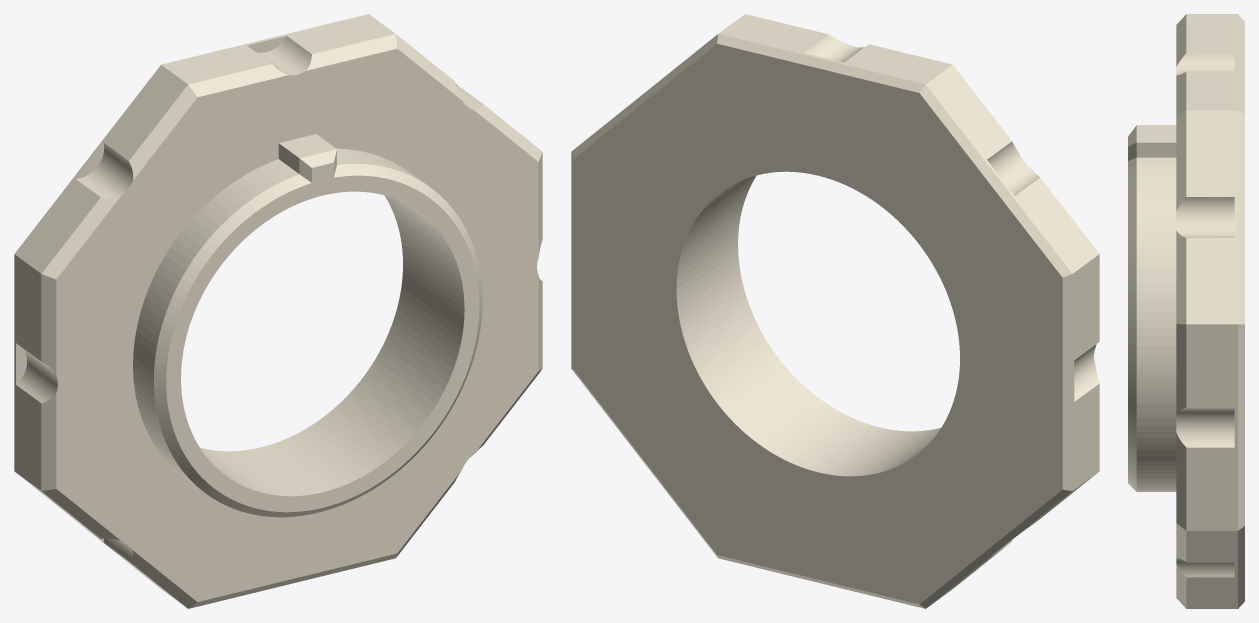
The model's file is t3@ivory.glb.
The picture shows the model from 3 angles, left to right: view 1: azimuth 30°, elevation 25°; view 2: azimuth 150°, elevation 25°; view 3: azimuth 270°, elevation 25°; orthographic projection. The views are drawn at different scales.
Visible parts, largest first — view 1: geometry_0; view 2: geometry_0; view 3: geometry_0.
Boxes of the visible parts, x1,y1,x2,y2 form: geometry_0: (14, 14, 542, 608); geometry_0: (571, 14, 1099, 608); geometry_0: (1128, 14, 1244, 608).
Bounding box in the file's own units: 32 × 32 × 6.8.
